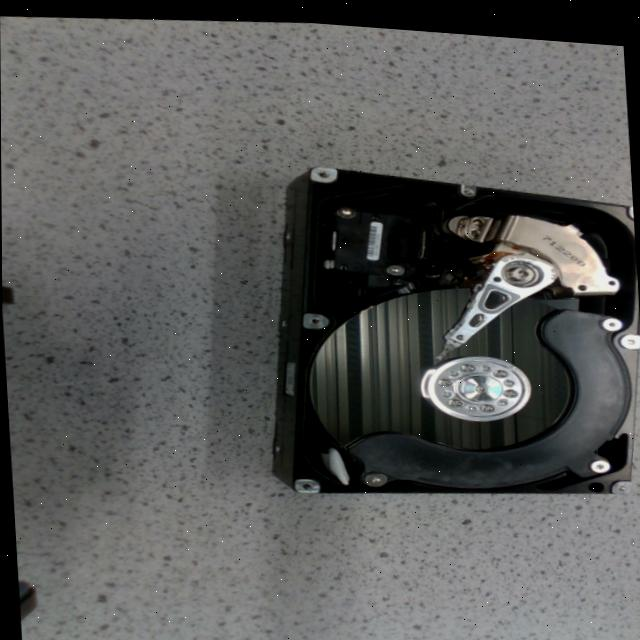actuator arm: (443, 241, 556, 344)
actuator axis: (502, 253, 538, 278)
case: (273, 162, 640, 487)
magnet: (504, 208, 617, 286)
pcb connector: (331, 203, 411, 269)
platter: (308, 282, 568, 440)
platter holder: (423, 350, 529, 413)
platter protector: (347, 302, 630, 482)
screw: (363, 467, 386, 481), (601, 308, 621, 321), (589, 450, 609, 463), (335, 202, 355, 213), (386, 259, 403, 269), (461, 357, 475, 365), (493, 362, 507, 370), (502, 382, 516, 390), (480, 397, 494, 405), (448, 392, 462, 400), (437, 372, 452, 379)
